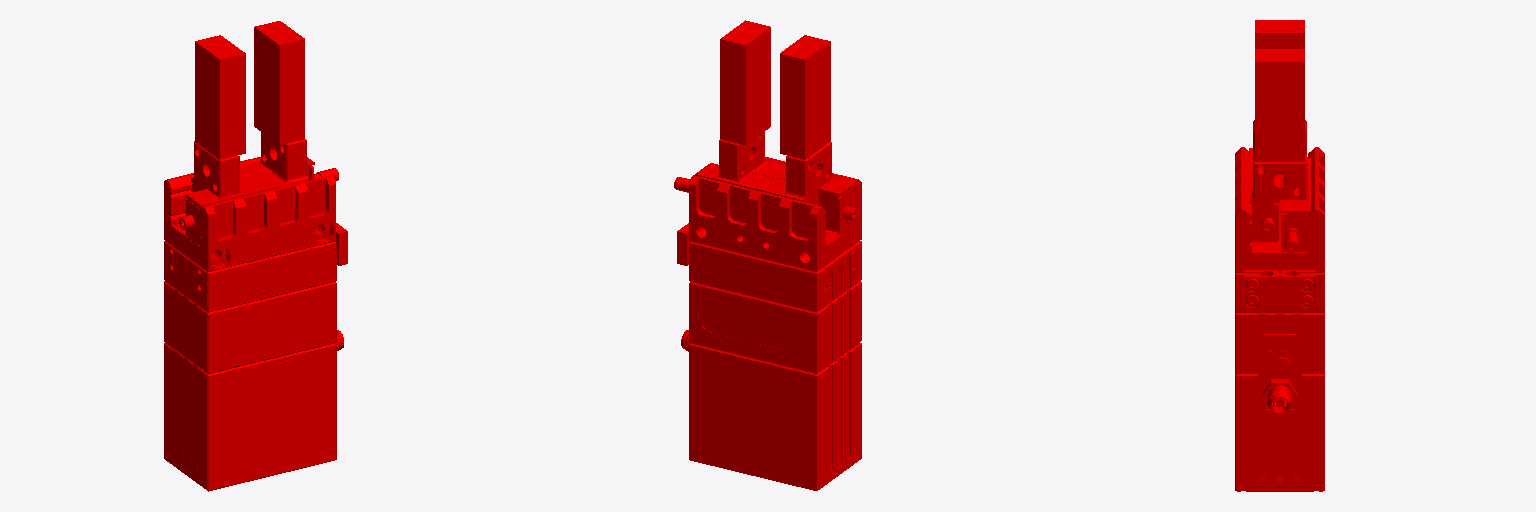
The robot description file, URDF, robot "SCHUNK_0310960_EGP_50_N_N_B_00ohne":
<robot
  name="SCHUNK_0310960_EGP_50_N_N_B_00ohne">
  <link
    name="gripper">
    <inertial>
      <origin
        xyz="0.00033804 0.047171 -1.0826E-05"
        rpy="0 0 0" />
      <mass
        value="0.00013753" />
      <inertia
        ixx="1.1626E-09"
        ixy="-8.8115E-10"
        ixz="-5.105E-13"
        iyy="1.3529E-09"
        iyz="-3.4527E-13"
        izz="2.4163E-09" />
    </inertial>
    <visual>
      <origin
        xyz="0 0 0"
        rpy="0 0 0" />
      <geometry>
        <mesh
          filename="package://SCHUNK_0310960_EGP_50_N_N_B_00ohne/meshes/gripper.STL" />
      </geometry>
      <material
        name="">
        <color
          rgba="1 0 0 1" />
      </material>
    </visual>
    <collision>
      <origin
        xyz="0 0 0"
        rpy="0 0 0" />
      <geometry>
        <mesh
          filename="package://SCHUNK_0310960_EGP_50_N_N_B_00ohne/meshes/gripper.STL" />
      </geometry>
    </collision>
  </link>
  <link
    name="left_finger">
    <inertial>
      <origin
        xyz="-0.011674 2.3949E-05 0.001925"
        rpy="0 0 0" />
      <mass
        value="1.2828E-05" />
      <inertia
        ixx="3.4357E-10"
        ixy="-3.1568E-10"
        ixz="3.132E-11"
        iyy="5.5867E-10"
        iyz="3.6709E-11"
        izz="8.9405E-10" />
    </inertial>
    <visual>
      <origin
        xyz="0 0 0"
        rpy="0 0 0" />
      <geometry>
        <mesh
          filename="package://SCHUNK_0310960_EGP_50_N_N_B_00ohne/meshes/left_finger.STL" />
      </geometry>
      <material
        name="">
        <color
          rgba="1 0 0 1" />
      </material>
    </visual>
    <collision>
      <origin
        xyz="0 0 0"
        rpy="0 0 0" />
      <geometry>
        <mesh
          filename="package://SCHUNK_0310960_EGP_50_N_N_B_00ohne/meshes/left_finger.STL" />
      </geometry>
    </collision>
  </link>
  <joint
    name="left_finger_joint"
    type="fixed">
    <origin
      xyz="-0.017 0 0.1184"
      rpy="1.5708 0 3.1416" />
    <parent
      link="gripper" />
    <child
      link="left_finger" />
    <axis
      xyz="0 0 0" />
  </joint>
  <link
    name="right_finger">
    <inertial>
      <origin
        xyz="-0.010879 0.00053046 0.0018786"
        rpy="0 0 0" />
      <mass
        value="1.2547E-05" />
      <inertia
        ixx="1.9533E-10"
        ixy="-8.4996E-11"
        ixz="1.0163E-11"
        iyy="1.9588E-10"
        iyz="2.3227E-11"
        izz="3.8549E-10" />
    </inertial>
    <visual>
      <origin
        xyz="0 0 0"
        rpy="0 0 0" />
      <geometry>
        <mesh
          filename="package://SCHUNK_0310960_EGP_50_N_N_B_00ohne/meshes/right_finger.STL" />
      </geometry>
      <material
        name="">
        <color
          rgba="1 0 0 1" />
      </material>
    </visual>
    <collision>
      <origin
        xyz="0 0 0"
        rpy="0 0 0" />
      <geometry>
        <mesh
          filename="package://SCHUNK_0310960_EGP_50_N_N_B_00ohne/meshes/right_finger.STL" />
      </geometry>
    </collision>
  </link>
  <joint
    name="right_finger_joint"
    type="fixed">
    <origin
      xyz="0.017 0 0.1184"
      rpy="1.5708 0 0" />
    <parent
      link="gripper" />
    <child
      link="right_finger" />
    <axis
      xyz="0 0 0" />
  </joint>
</robot>

--- Facts derived from the render (not from the file) ---
3 views of the same robot in one strip: view 1: azimuth 30°, elevation 25°; view 2: azimuth 150°, elevation 25°; view 3: azimuth 270°, elevation 25° (orthographic).
Robot: SCHUNK_0310960_EGP_50_N_N_B_00ohne — 3 links, 2 joints (2 fixed); root link gripper; default pose: every joint at zero.
Links seen in each view (by area): view 1: gripper, right_finger, left_finger; view 2: gripper, right_finger, left_finger; view 3: gripper, right_finger, left_finger.
Link boxes in pixels (x1,y1,x2,y2): gripper: [164, 157, 347, 491]; right_finger: [179, 21, 309, 244]; left_finger: [191, 35, 338, 197]; gripper: [677, 157, 861, 490]; right_finger: [718, 20, 857, 234]; left_finger: [674, 35, 832, 217]; gripper: [1235, 147, 1324, 491]; right_finger: [1249, 49, 1306, 241]; left_finger: [1253, 20, 1310, 252].
Bounding box of the posed robot: 0.0642 × 0.03 × 0.1554 m (x, y, z).
3 mesh visuals loaded from 3 distinct referenced files (3 binary STL).